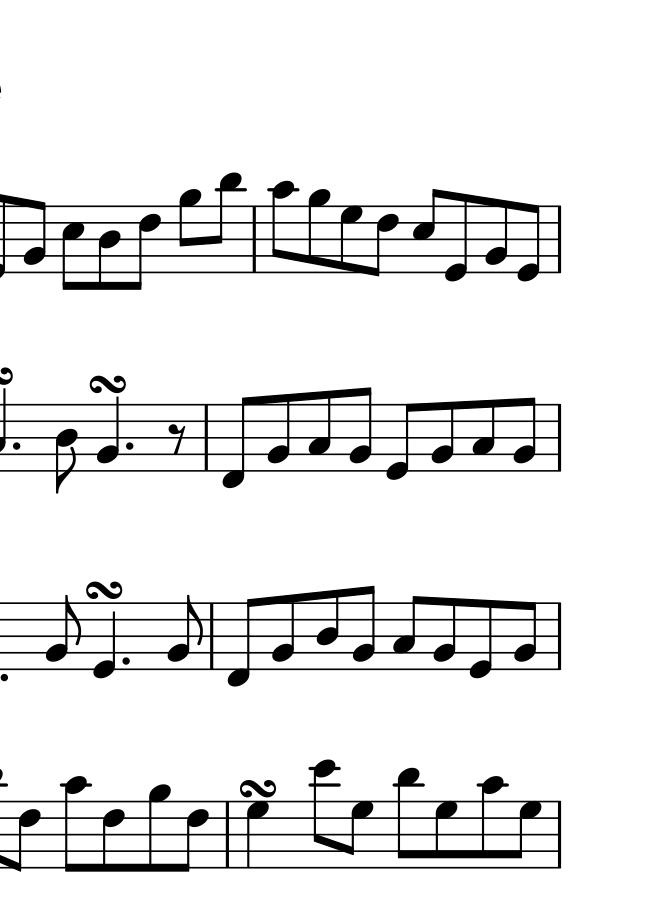4_0: (91, 601, 118, 680)
4_2: (95, 397, 121, 473)
4_7: (242, 800, 270, 873)
8_-1: (219, 395, 257, 489), (226, 596, 261, 690)
8_0: (382, 402, 419, 484), (442, 191, 472, 283), (465, 599, 495, 680), (516, 202, 542, 285)
8_10: (62, 774, 91, 873), (269, 179, 298, 276), (479, 777, 507, 870)
8_11: (210, 172, 246, 275), (393, 768, 425, 871)
8_12: (307, 760, 340, 870)
8_2: (44, 593, 83, 672), (165, 594, 204, 672), (346, 386, 373, 475), (265, 393, 293, 474), (268, 592, 296, 673), (351, 585, 376, 673), (428, 400, 456, 475), (430, 596, 457, 673), (484, 198, 510, 276), (513, 396, 538, 474), (23, 197, 47, 276), (514, 599, 539, 672)
8_3: (304, 389, 333, 475), (391, 594, 421, 673), (472, 398, 497, 474)
8_4: (53, 401, 82, 498), (314, 589, 342, 673), (97, 204, 122, 292)
8_5: (407, 188, 444, 276), (61, 204, 85, 293)
8_6: (127, 203, 162, 292), (177, 799, 210, 875), (9, 800, 41, 876), (370, 204, 399, 278), (99, 800, 125, 874)
8_7: (514, 799, 543, 871), (344, 799, 372, 871), (337, 202, 363, 276), (434, 799, 458, 871)
8_9: (146, 783, 173, 873), (177, 188, 203, 275), (305, 189, 331, 276)
Rests8: (165, 421, 187, 457)
Single_barline: (551, 204, 567, 276), (203, 603, 220, 670), (221, 801, 238, 867), (197, 405, 214, 470), (552, 800, 567, 870), (552, 601, 567, 670), (247, 205, 261, 274), (553, 402, 566, 472)
Turn: (85, 578, 125, 602), (89, 372, 127, 396), (239, 777, 278, 800)
dot: (121, 439, 135, 453), (118, 654, 131, 667), (10, 440, 21, 452)
